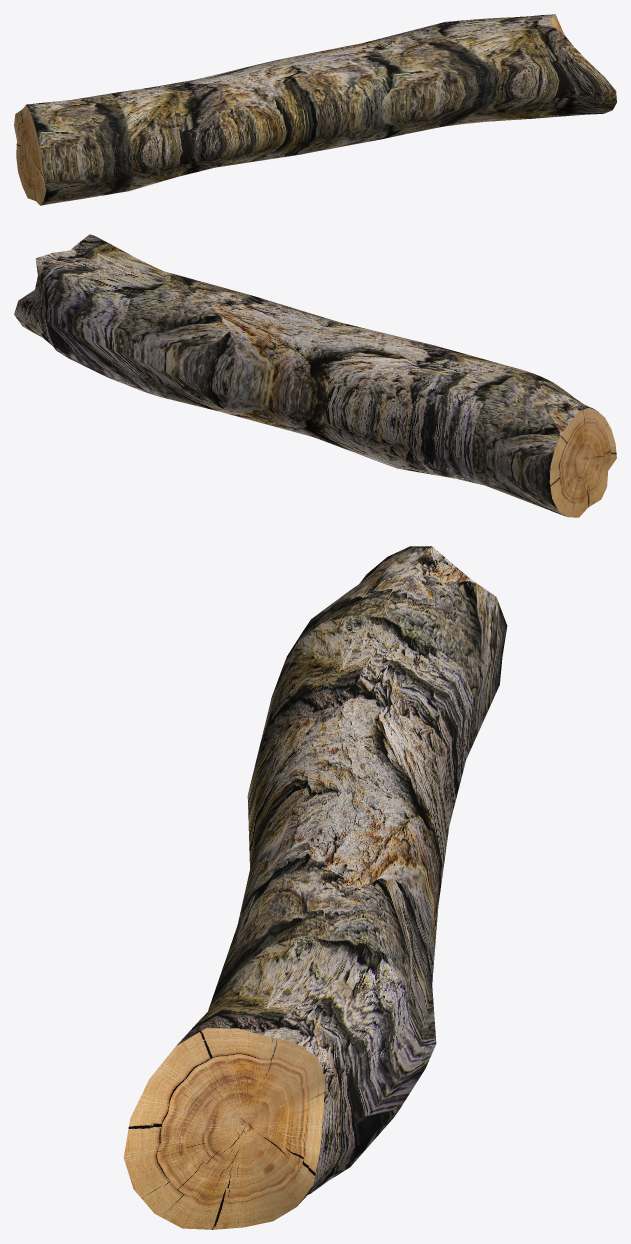
File: log6.fbx
3 renders of one model, top to bottom at view 1: azimuth 30°, elevation 25°; view 2: azimuth 150°, elevation 25°; view 3: azimuth 270°, elevation 25°, orthographic. The views are drawn at different scales.
Visible parts, largest first — view 1: pCylinder15; view 2: pCylinder15; view 3: pCylinder15.
Boxes of the visible parts, bbox=[...] form: pCylinder15: bbox=[14, 14, 616, 205]; pCylinder15: bbox=[14, 234, 616, 517]; pCylinder15: bbox=[123, 546, 507, 1229].
Bounding box in the file's own units: 7.46 × 1.28 × 2.35.
2 materials, 2 textured.
